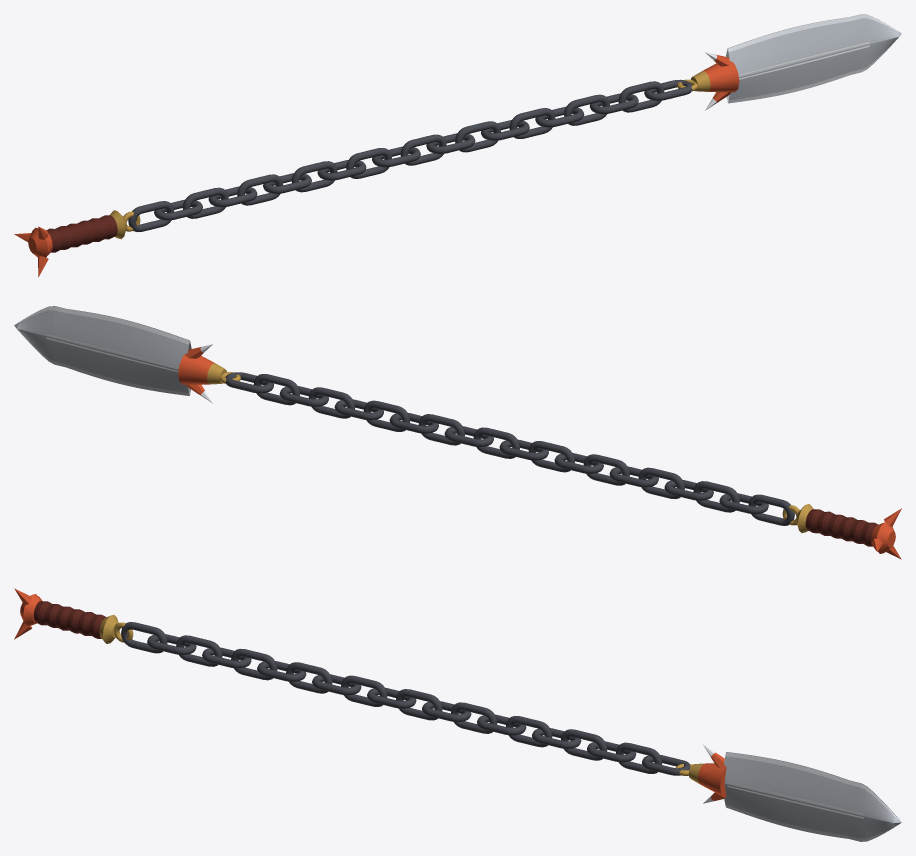
Rendered from shellbreaker.obj.
3 renders of one model, top to bottom at view 1: azimuth 30°, elevation 25°; view 2: azimuth 150°, elevation 25°; view 3: azimuth 330°, elevation 25°, orthographic.
Size of the model in its own units: 2.4 by 0.17 by 0.1199.
